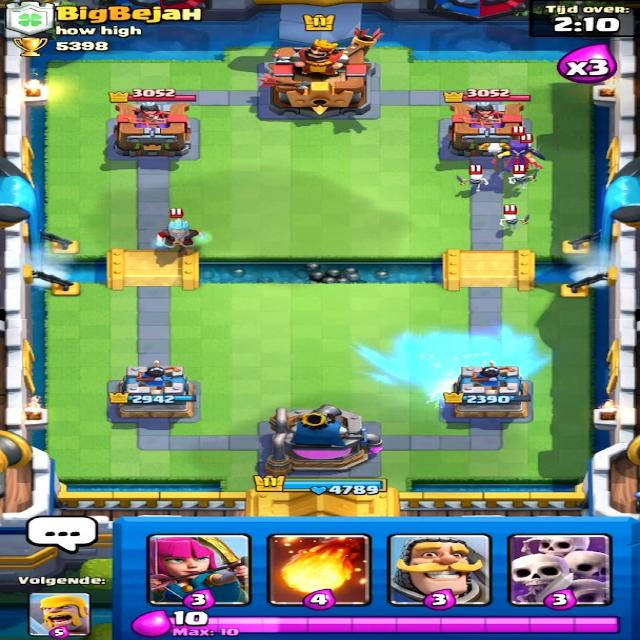Enemy_Ice_Wizard_Troop: (146, 218, 212, 258)
Enemy_Skeleton_Troop: (497, 212, 531, 232), (458, 174, 490, 192), (504, 173, 536, 189)
Enemy_Witch_Troop: (493, 136, 548, 178)
Fireball_Card: (263, 534, 369, 605)
